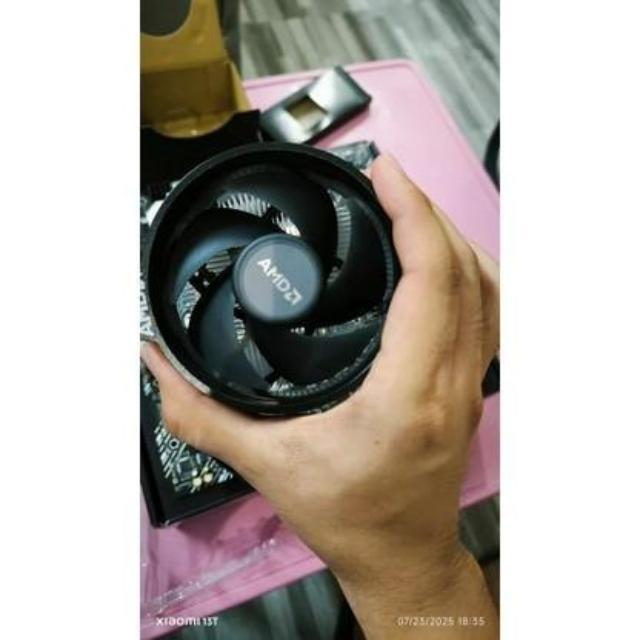CPU_Fan: (132, 148, 408, 404)
